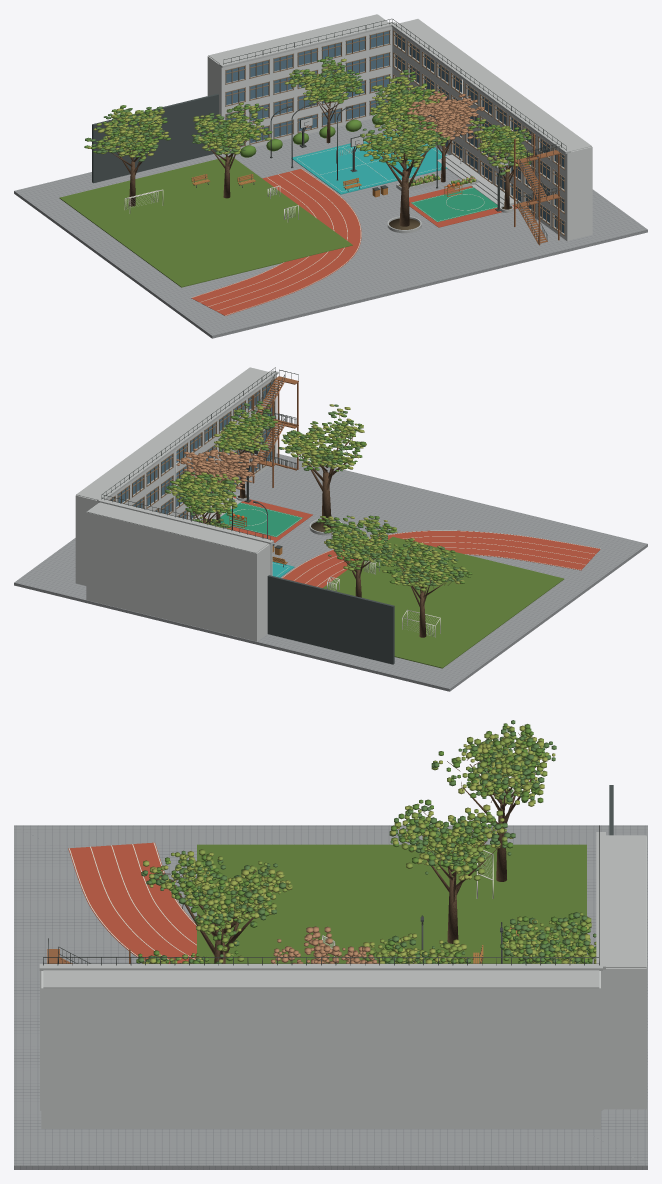
The model's file is campus-courtyard.glb.
3 renders of one model, top to bottom at view 1: azimuth 30°, elevation 25°; view 2: azimuth 150°, elevation 25°; view 3: azimuth 270°, elevation 25°, orthographic. The views are drawn at different scales.
Visible parts, largest first — view 1: SITE-PAVERS, LAWN-L, BLD-B-SHELL, BLD-A-SHELL, TRACK-ARC, BACKDROP-WEST-FRAGMENT, TREE-01, COURT-NE, TREE-06, TREE-02, TREE-07, TREE-04 (+7 smaller); view 2: SITE-PAVERS, BLD-A-SHELL, LAWN-L, BLD-B-SHELL, BACKDROP-WEST-FRAGMENT, TRACK-ARC, TREE-01, TREE-06, TREE-02, TREE-03, TREE-05, STAIR-01 (+4 smaller); view 3: BLD-B-SHELL, SITE-PAVERS, LAWN-L, BLD-A-SHELL, TRACK-ARC, TREE-01, TREE-02, TREE-06, TREE-07, TREE-03, TREE-04, BLD-B-ROOF-RAIL (+1 smaller).
Part boxes in pixels (<box>): SITE-PAVERS: <box>14,118,647,338</box>; LAWN-L: <box>59,157,352,287</box>; BLD-B-SHELL: <box>390,19,592,241</box>; BLD-A-SHELL: <box>207,14,394,154</box>; TRACK-ARC: <box>191,168,361,315</box>; BACKDROP-WEST-FRAGMENT: <box>92,93,218,183</box>; TREE-01: <box>356,111,450,226</box>; COURT-NE: <box>291,133,447,194</box>; TREE-06: <box>84,105,171,206</box>; TREE-02: <box>191,102,272,198</box>; TREE-07: <box>284,56,363,143</box>; TREE-04: <box>407,91,484,182</box>; SITE-PAVERS: <box>14,453,647,691</box>; BLD-A-SHELL: <box>86,498,273,641</box>; LAWN-L: <box>323,537,564,668</box>; BLD-B-SHELL: <box>75,367,278,585</box>; BACKDROP-WEST-FRAGMENT: <box>267,575,394,664</box>; TRACK-ARC: <box>282,530,600,587</box>; TREE-01: <box>278,404,366,528</box>; TREE-06: <box>375,538,472,637</box>; TREE-02: <box>316,515,397,597</box>; TREE-03: <box>164,471,241,523</box>; TREE-05: <box>214,401,278,498</box>; STAIR-01: <box>252,369,298,487</box>; BLD-B-SHELL: <box>39,964,602,1128</box>; SITE-PAVERS: <box>14,825,647,1169</box>; LAWN-L: <box>197,844,586,963</box>; BLD-A-SHELL: <box>596,832,646,1109</box>; TRACK-ARC: <box>68,842,196,963</box>; TREE-01: <box>141,849,292,963</box>; TREE-02: <box>389,799,515,943</box>; TREE-06: <box>431,720,556,881</box>; TREE-07: <box>500,912,596,963</box>; TREE-03: <box>361,933,470,963</box>; TREE-04: <box>271,926,378,963</box>; BLD-B-ROOF-RAIL: <box>43,957,599,965</box>.
Size of the model in its own units: 66 by 15.62 by 52.
Materials: 25 (2 with a texture image).
